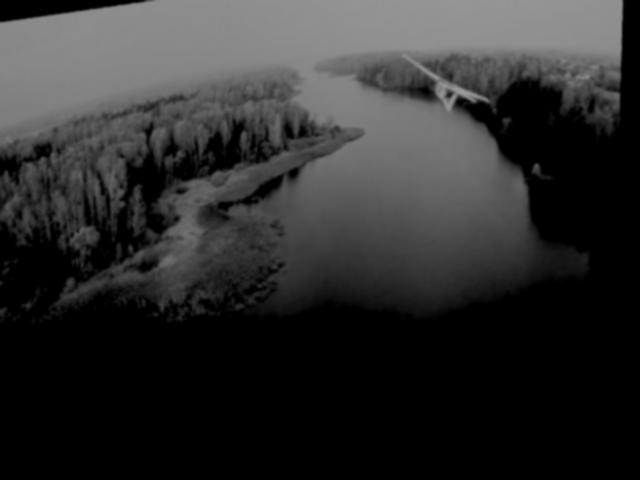hedef: (388, 41, 503, 136)
